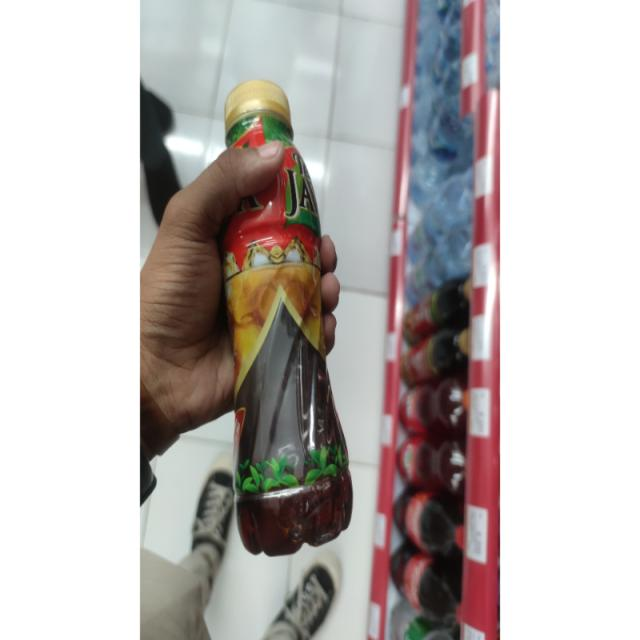botol: (192, 68, 385, 574)
